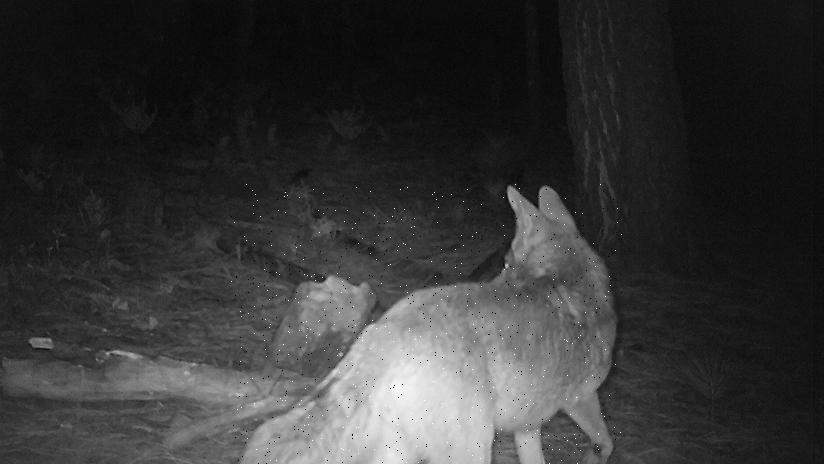Coyote: (231, 184, 622, 464)
